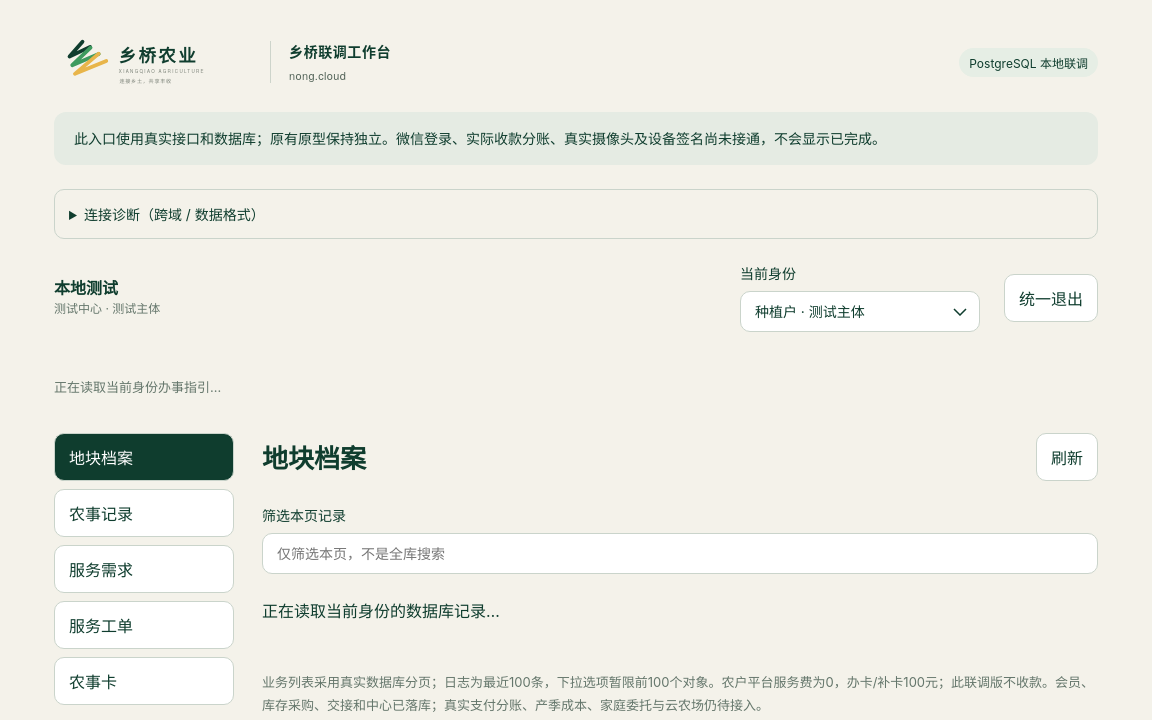
Scenario: persisted card mapping renders and lists use actual pagination and expected identity
Expected: the heading "地块档案" is shown, [262, 438, 366, 475]
Click the button "农事卡" at (144,681), box [54, 657, 234, 705]
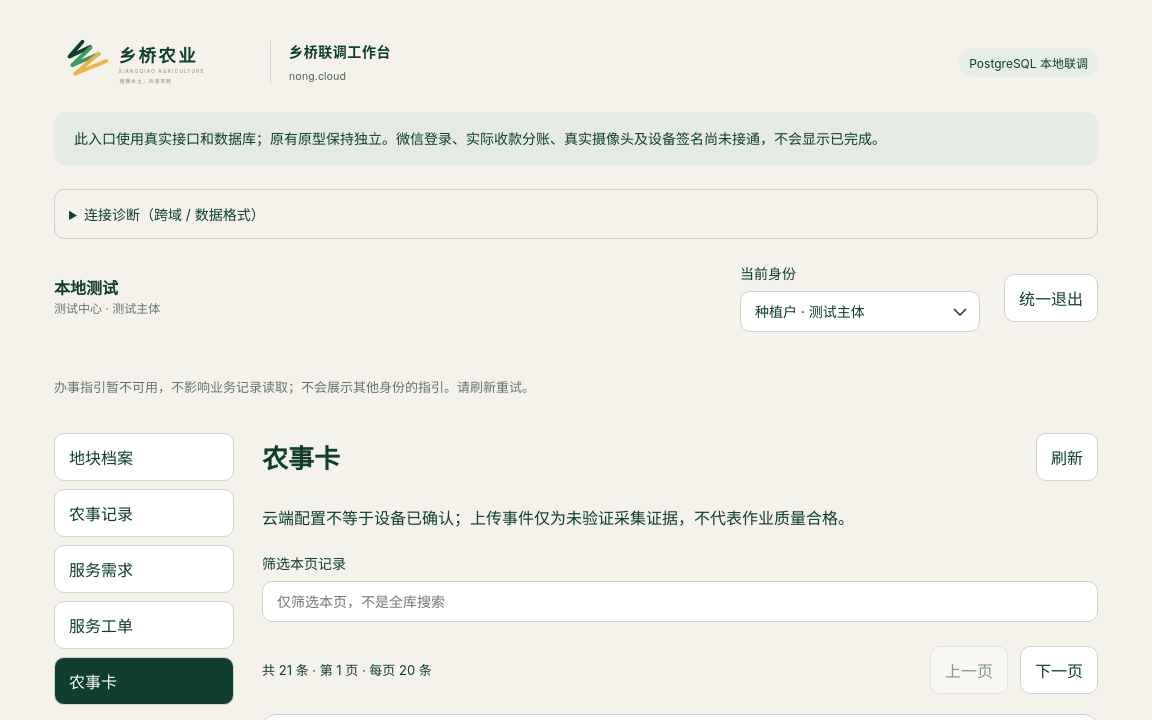
Click the button "下一页" at (1059,670), box [1020, 646, 1098, 694]
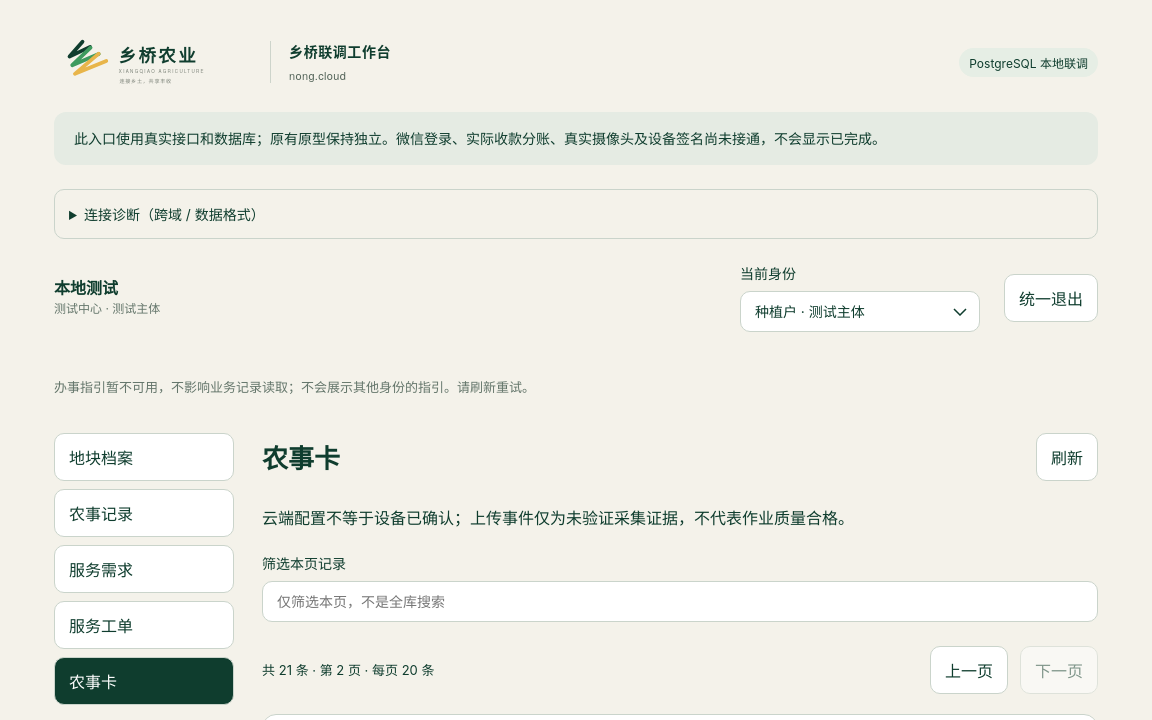
Expected: the text "共 21 条 · 第 2 页 · 每页 20 条" is shown, [262, 660, 434, 679]
